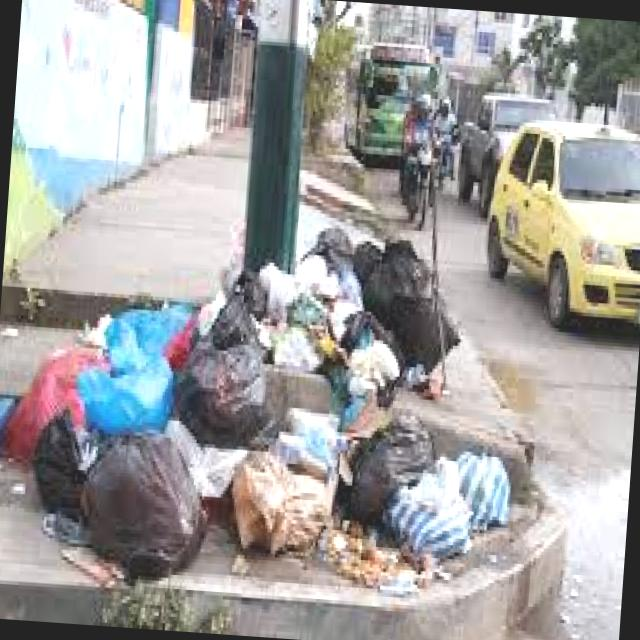garbage: (0, 179, 538, 620)
